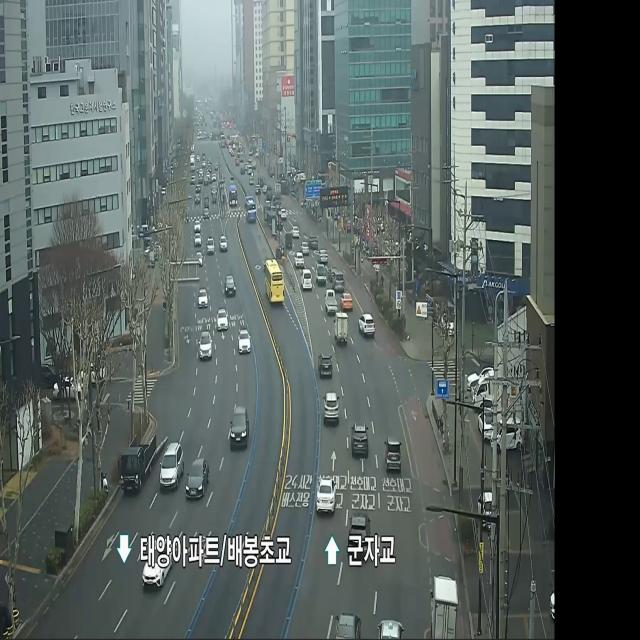car: (261, 254, 287, 310), (244, 191, 256, 230), (227, 183, 240, 211)
motorcycle: (184, 452, 211, 510), (228, 402, 252, 454), (350, 415, 372, 463), (314, 474, 338, 518), (320, 386, 342, 430), (383, 434, 404, 475), (357, 311, 378, 344), (196, 328, 213, 364), (237, 326, 254, 361), (224, 268, 237, 300)
truck: (114, 425, 158, 502), (428, 568, 458, 640), (335, 308, 350, 348), (324, 289, 338, 319)
